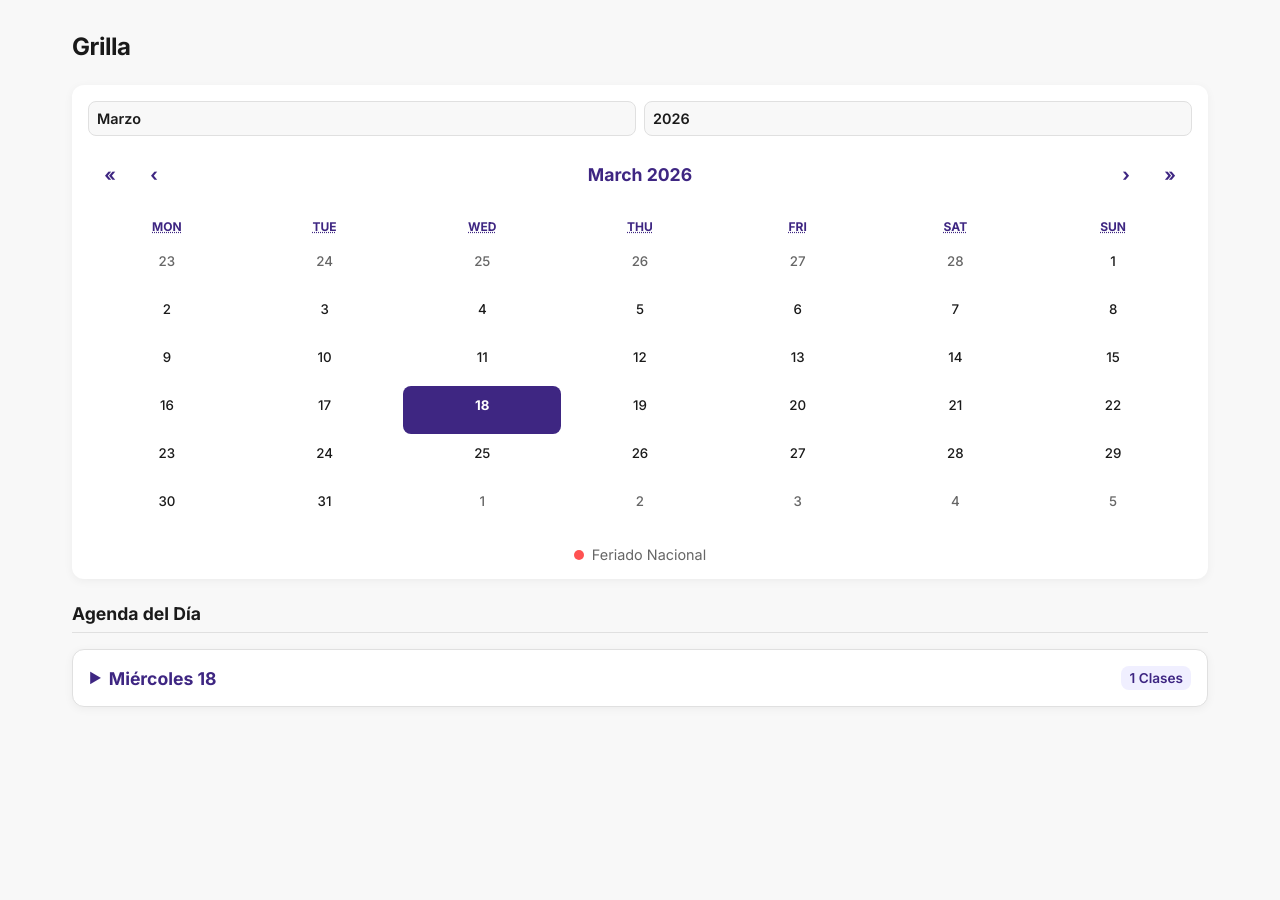
Scenario: AdminCalendarPage › renderiza las clases que aporta el hook cuando loading es false
This screenshot has width=1280, height=900.
Expected: the text "Funcional" is not shown
Click the text "1 Clases" at (1156, 678), box [1130,670,1183,686]
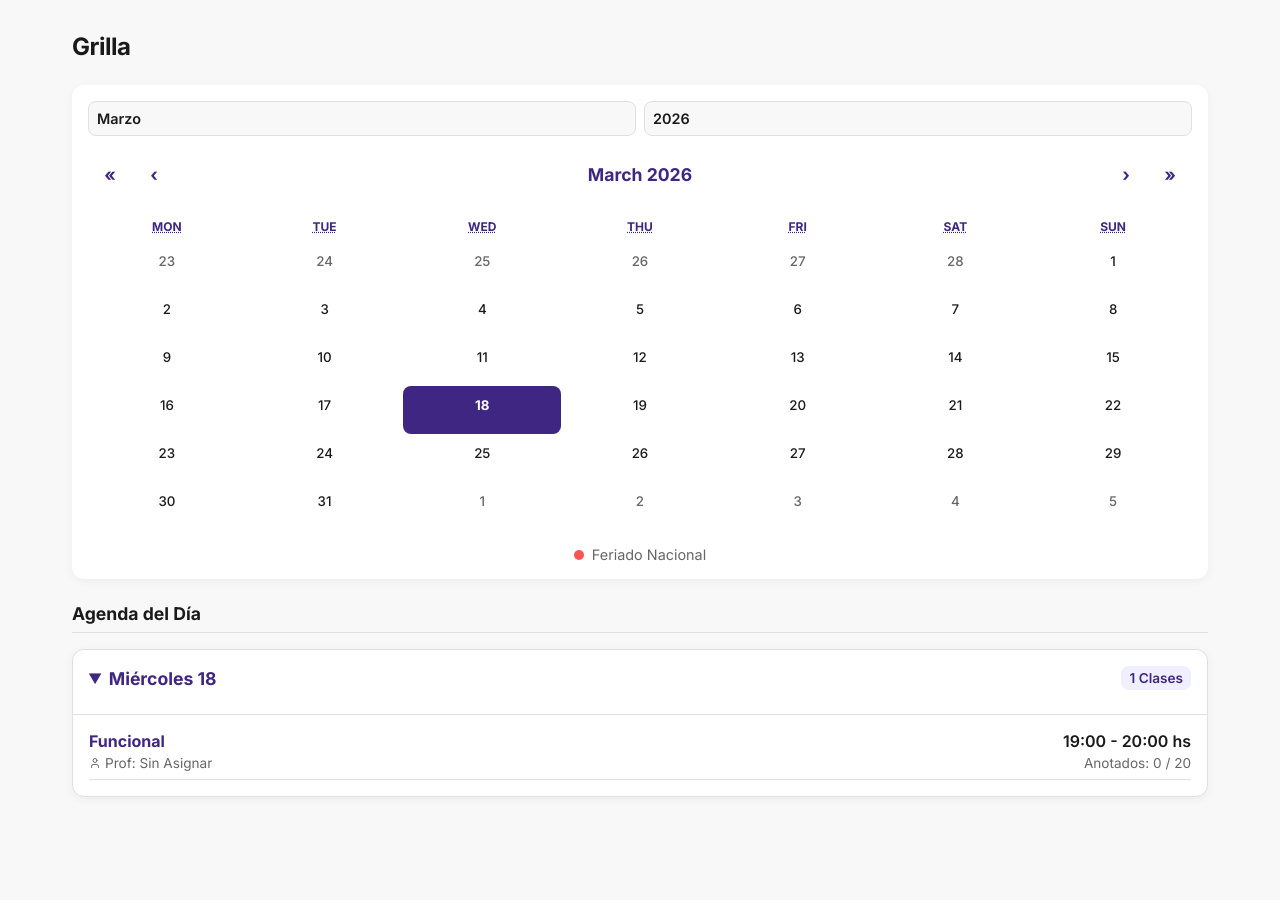
Expected: the text "Funcional" is shown, [89,731,165,751]
Expected: the text "Prof: Sin Asignar" is shown, [89,755,212,771]
Expected: the text "Anotados: 0 / 20" is shown, [1084,755,1191,771]
